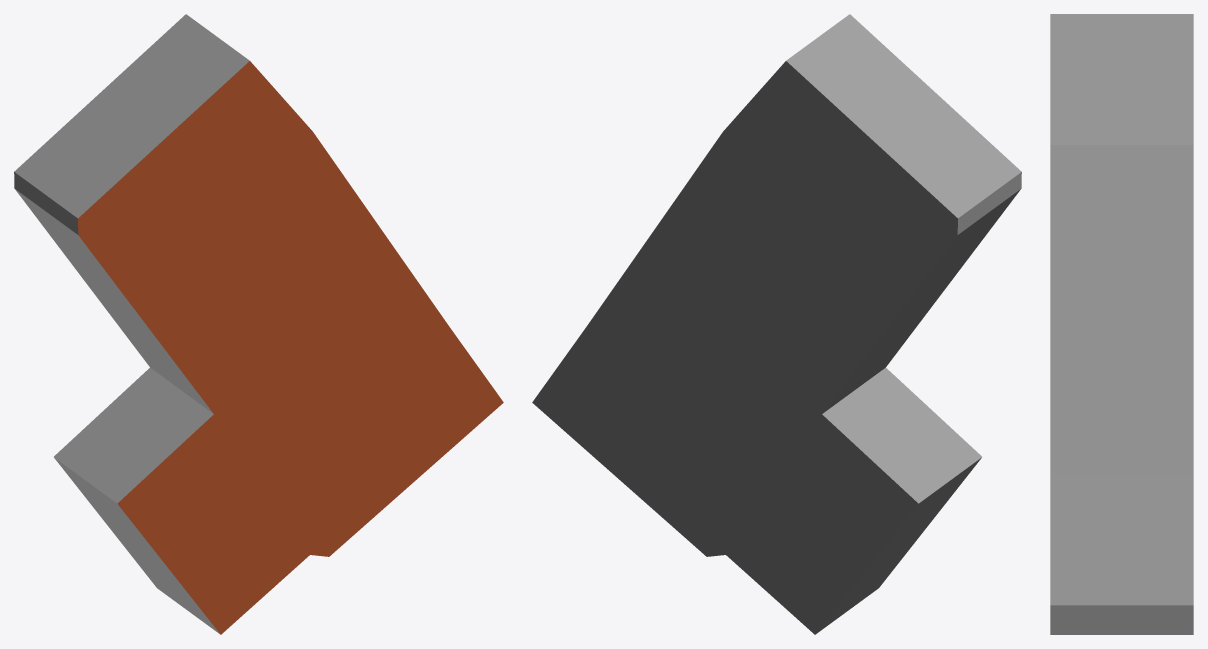
File: construction_3271_assumed_A_Casa_h6m.obj
The picture shows the model from 3 angles, left to right: view 1: azimuth 30°, elevation 25°; view 2: azimuth 150°, elevation 25°; view 3: azimuth 270°, elevation 25°; orthographic projection. The views are drawn at different scales.
Visible parts, largest first — view 1: construction_3271_assumed_A_Casa; view 2: construction_3271_assumed_A_Casa; view 3: construction_3271_assumed_A_Casa.
Part boxes in pixels (x1,y1,x2,y2): construction_3271_assumed_A_Casa: (14,14,503,634); construction_3271_assumed_A_Casa: (532,14,1021,634); construction_3271_assumed_A_Casa: (1050,14,1193,634).
Bounding box in the file's own units: 23.09 × 29.38 × 6.
